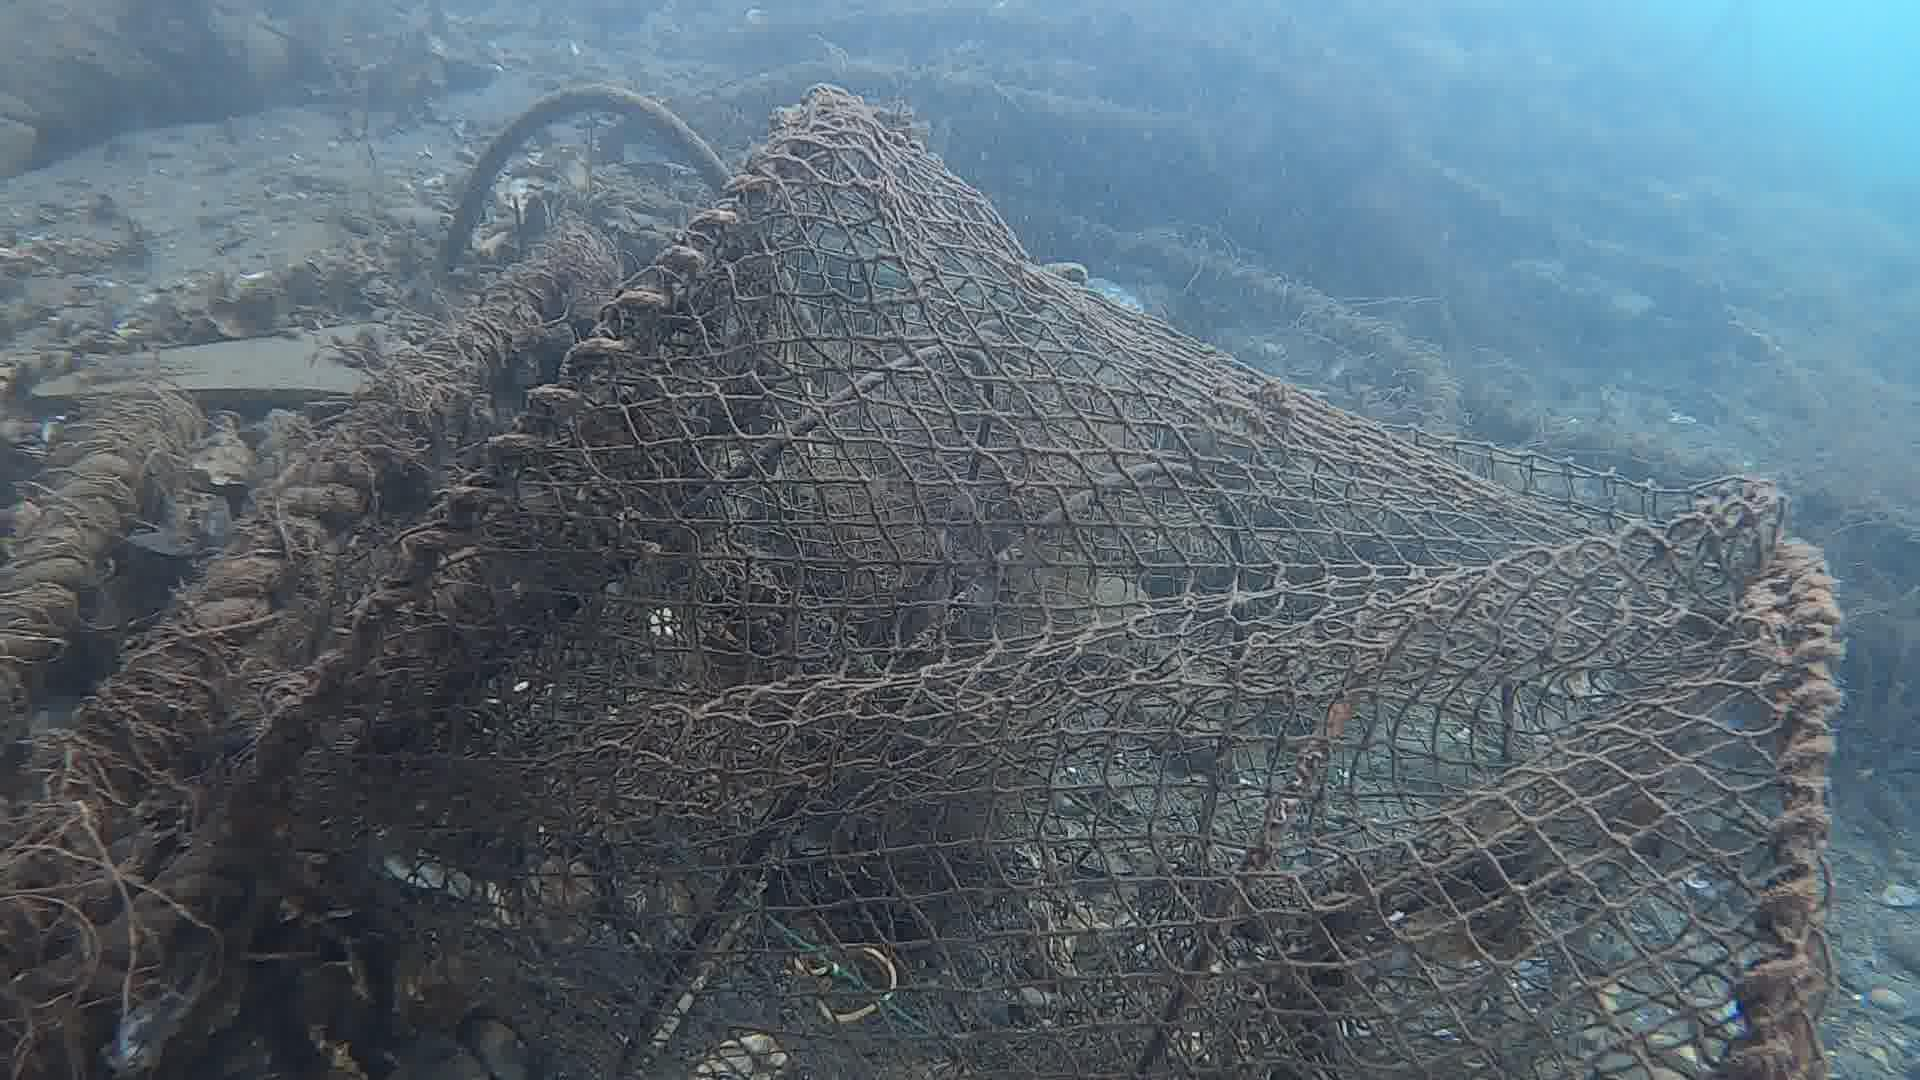bundle of ropes: (0, 454, 381, 655)
spring fish trap: (212, 83, 1844, 1080)
